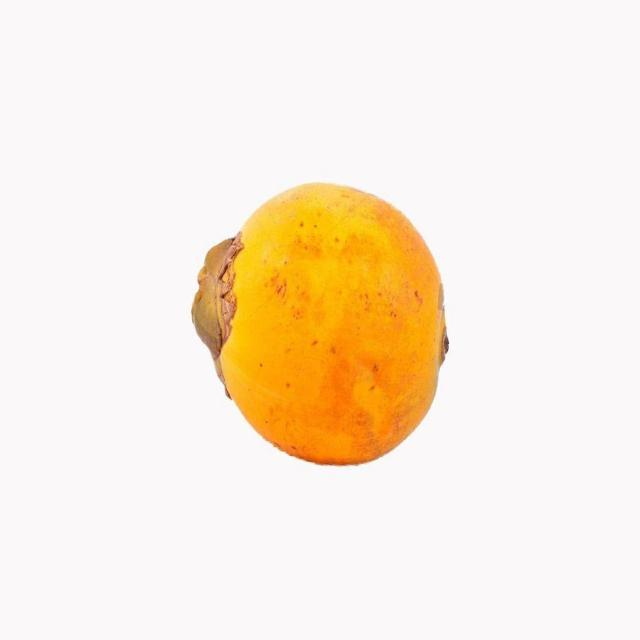good: (191, 182, 450, 469)
